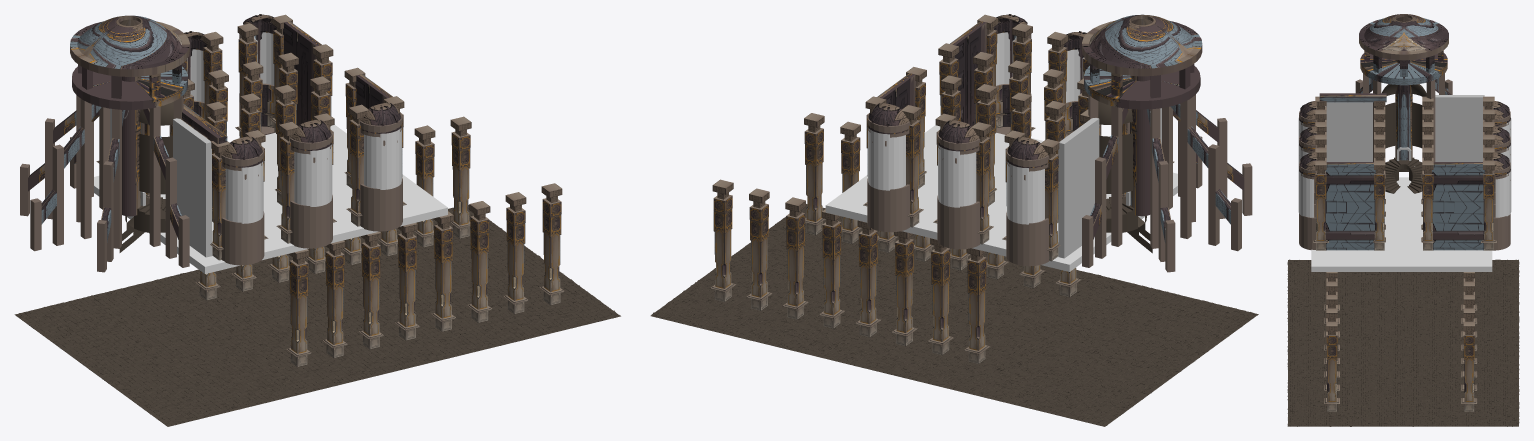
Rendered from full_.fbx.
The picture shows the model from 3 angles, left to right: view 1: azimuth 30°, elevation 25°; view 2: azimuth 150°, elevation 25°; view 3: azimuth 270°, elevation 25°; orthographic projection. The views are drawn at different scales.
Parts seen in each view (by area): view 1: Cube.126, Cube.128, Circle.031, chamber.001, Cube.090, Cube.127, Cube.064, Cube.123, Cube.089, Circle.022, Circle.026, Circle.024 (+19 smaller); view 2: Cube.126, Cube.127, Circle.031, chamber.001, Cube.090, Cube.128, Cube.064, Cube.123, Cube.089, Circle.018, Circle.020, Circle.016 (+19 smaller); view 3: Cube.126, Cube.089, Cube.064, Cube.123, chamber.001, Cube.090, Cube.127, Cube.128, back_windows, sanctum, Circle.031, Cube.076 (+13 smaller).
Part boxes in pixels (x1,y1,x2,y2): Cube.126: (14,205,620,426); Cube.128: (286,183,564,366); Circle.031: (20,95,189,272); chamber.001: (70,15,189,109); Cube.090: (144,44,365,222); Cube.127: (195,116,471,300); Cube.064: (94,125,447,273); Cube.123: (110,108,211,257); Cube.089: (283,21,392,125); Circle.022: (221,147,264,265); Circle.026: (360,113,402,231); Circle.024: (290,130,332,248); Cube.126: (650,204,1258,426); Cube.127: (710,179,989,363); Circle.031: (1082,94,1252,272); chamber.001: (1082,14,1202,109); Cube.090: (906,43,1127,222); Cube.128: (804,113,1081,297); Cube.064: (825,125,1177,271); Cube.123: (1058,108,1161,258); Cube.089: (877,21,987,125); Circle.018: (937,130,980,249); Circle.020: (867,113,910,232); Circle.016: (1006,147,1049,266); Cube.126: (1287,259,1519,426); Cube.089: (1325,162,1484,250); Cube.064: (1311,177,1492,271); Cube.123: (1326,95,1484,161); chamber.001: (1359,14,1448,85); Cube.090: (1373,96,1434,250); Cube.127: (1461,272,1477,411); Cube.128: (1324,272,1339,411); back_windows: (1382,84,1426,148); sanctum: (1395,60,1412,160); Circle.031: (1355,73,1452,161); Cube.076: (1480,160,1496,250).
Size of the model in its own units: 216086 by 136929 by 112446.
